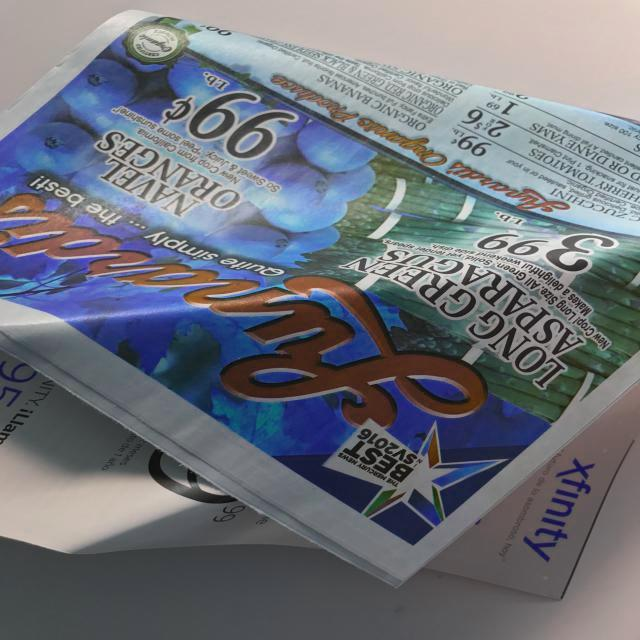paper: (0, 0, 640, 624)
